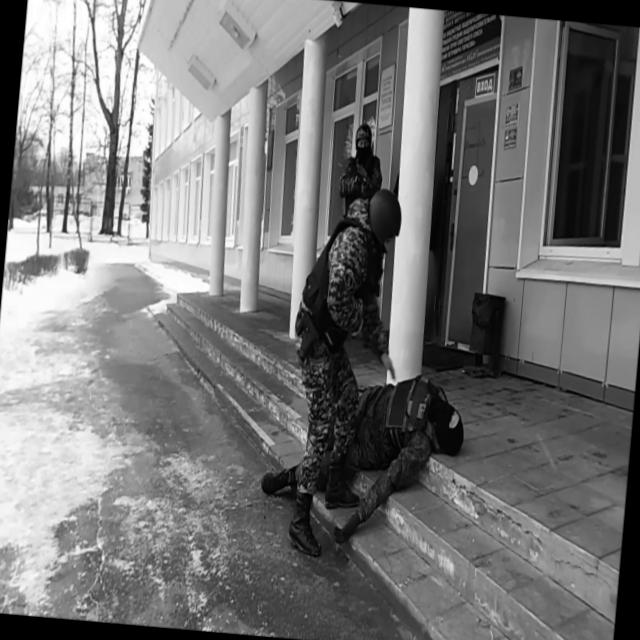gun: (293, 309, 321, 362), (351, 154, 376, 200)
person: (257, 360, 470, 554)
person with a gun: (276, 180, 405, 559), (326, 120, 392, 348)
